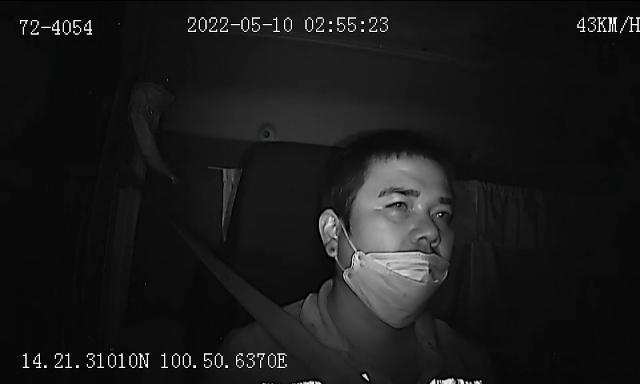SafeDriving: (380, 193, 416, 218), (426, 200, 456, 224)
Seatbelt: (184, 234, 360, 384)
